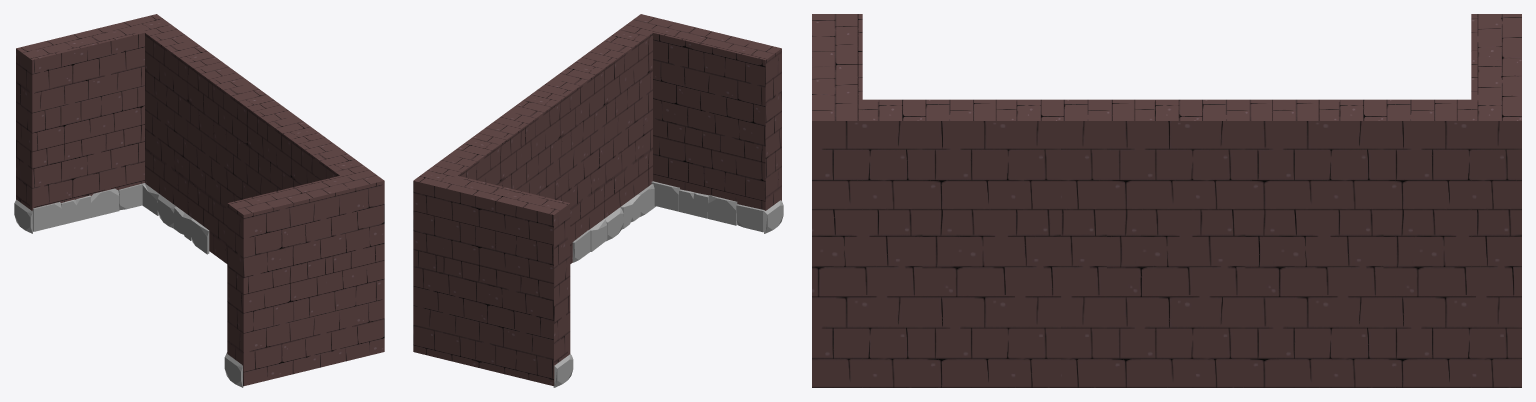
Rendered from Poly_brushE_wall_polybrush.fbx.
3 views of the same model, side by side, from view 1: azimuth 30°, elevation 25°; view 2: azimuth 150°, elevation 25°; view 3: azimuth 270°, elevation 25° (orthographic). The views are drawn at different scales.
Parts seen in each view (by area): view 1: E_wall_polybrush; view 2: E_wall_polybrush; view 3: E_wall_polybrush.
Part boxes in pixels (<box>): E_wall_polybrush: <box>14,14,384,387</box>; E_wall_polybrush: <box>413,14,783,387</box>; E_wall_polybrush: <box>812,14,1521,387</box>.
Size of the model in its own units: 508 by 587 by 1400.
2 materials, 1 textured.
